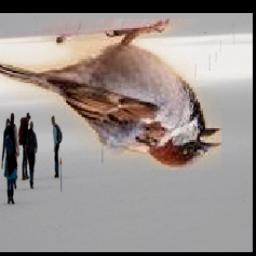Sparrow: (0, 19, 221, 170)
